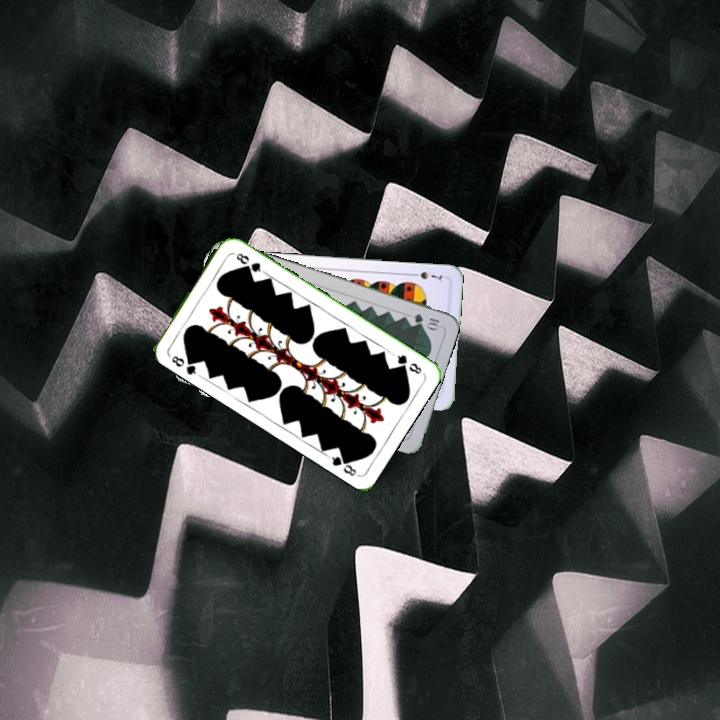G10: (410, 309, 442, 332)
G8: (389, 350, 424, 377), (167, 351, 201, 378)
S7: (406, 267, 445, 284)
